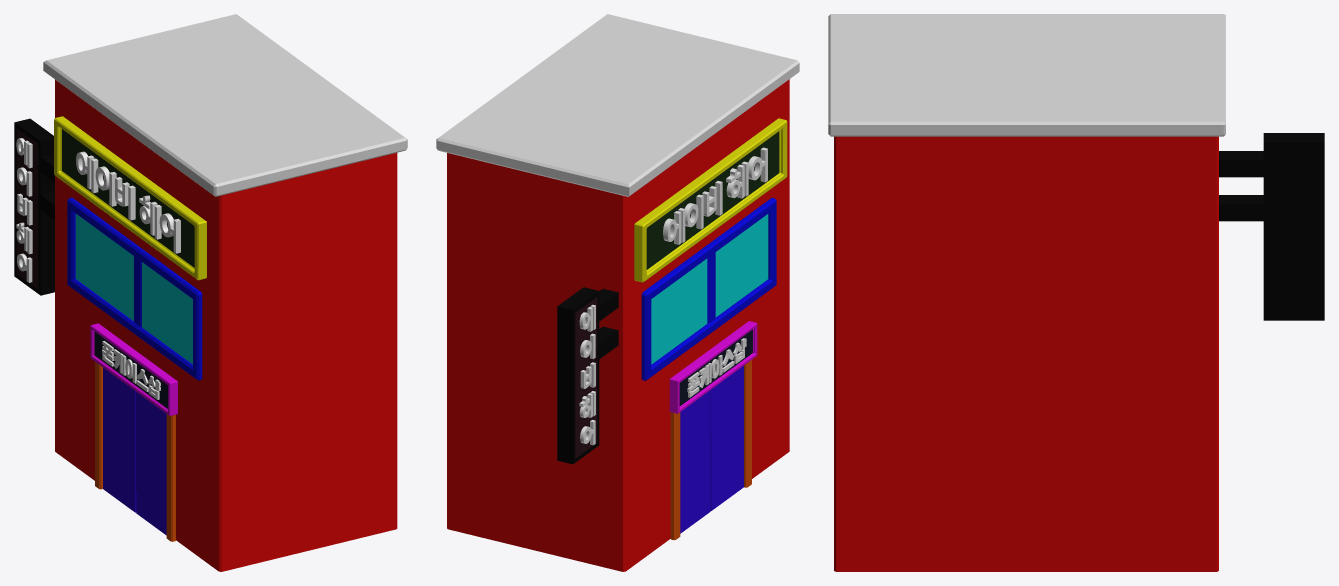
Rendered from Building_2_3.fbx.
The picture shows the model from 3 angles, left to right: view 1: azimuth 30°, elevation 25°; view 2: azimuth 150°, elevation 25°; view 3: azimuth 270°, elevation 25°; orthographic projection. The views are drawn at different scales.
Visible parts, largest first — view 1: polySurface1487, polySurface1486, polySurface1500, typeMesh22, polySurface1497, typeMesh23, typeMesh24; view 2: polySurface1487, polySurface1486, polySurface1500, typeMesh22, polySurface1497, typeMesh23, typeMesh24; view 3: polySurface1487, polySurface1500.
Part boxes in pixels (x1,y1,x2,y2): polySurface1487: (31,14,407,571); polySurface1486: (54,116,206,280); polySurface1500: (14,118,54,295); typeMesh22: (76,151,180,253); polySurface1497: (90,323,177,415); typeMesh23: (16,138,32,282); typeMesh24: (102,341,160,399); polySurface1487: (436,14,799,571); polySurface1486: (634,118,787,282); polySurface1500: (557,287,599,464); typeMesh22: (663,147,767,244); polySurface1497: (669,321,757,413); typeMesh23: (579,304,595,445); typeMesh24: (687,338,746,397); polySurface1487: (828,14,1286,571); polySurface1500: (1263,133,1324,320).
Size of the model in its own units: 98.99 by 188 by 186.
